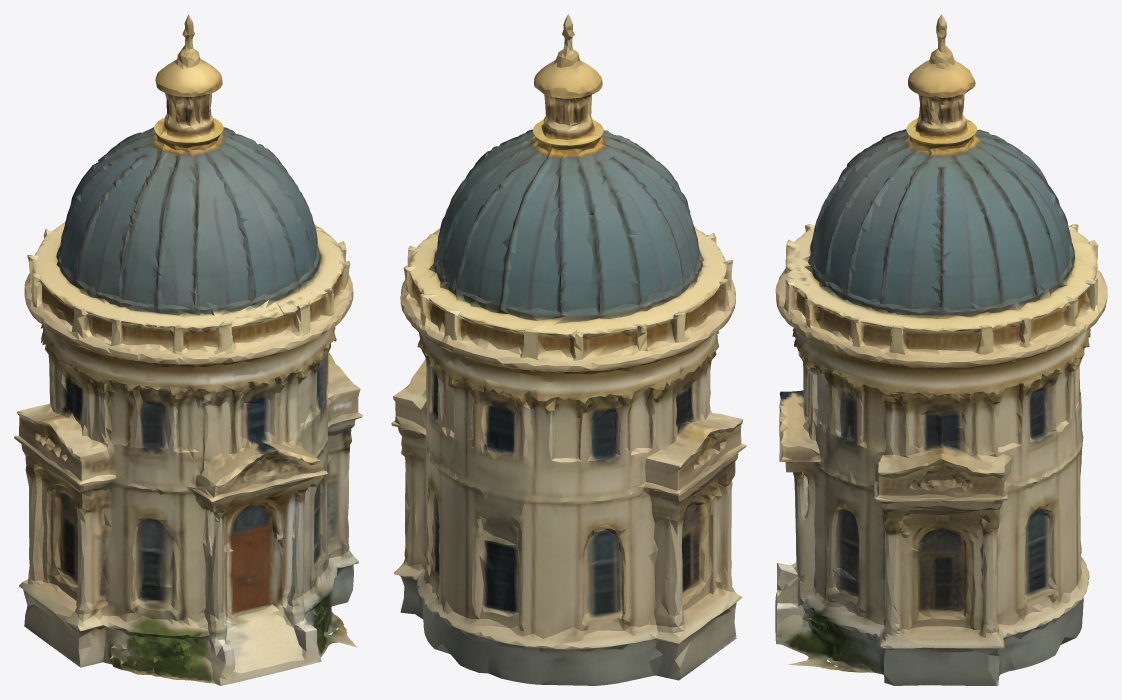
File: enlightenment_observatory.glb
The picture shows the model from 3 angles, left to right: view 1: azimuth 30°, elevation 25°; view 2: azimuth 150°, elevation 25°; view 3: azimuth 270°, elevation 25°; orthographic projection. The views are drawn at different scales.
Visible parts, largest first — view 1: enlightenment_observatory; view 2: enlightenment_observatory; view 3: enlightenment_observatory.
Boxes of the visible parts, left/top/right/bottom form: enlightenment_observatory: left=14, top=14, right=362, bottom=685; enlightenment_observatory: left=391, top=14, right=746, bottom=685; enlightenment_observatory: left=775, top=14, right=1107, bottom=685.
Size of the model in its own units: 0.942 by 1.9 by 0.946.
1 material, 1 textured.
